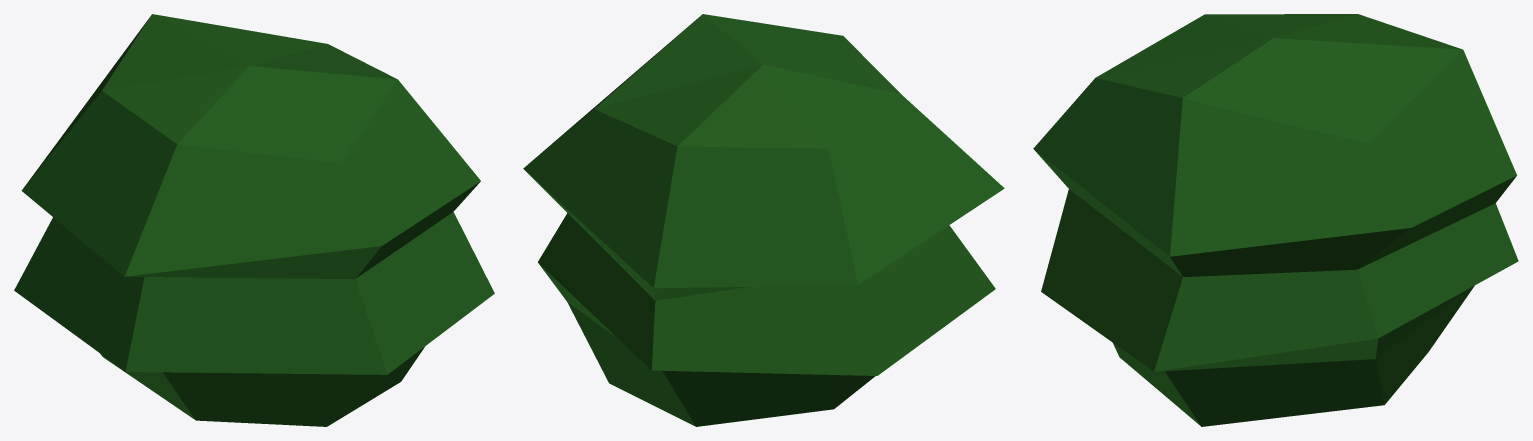
The model's file is bush4.glb.
The picture shows the model from 3 angles, left to right: view 1: azimuth 30°, elevation 25°; view 2: azimuth 150°, elevation 25°; view 3: azimuth 270°, elevation 25°; orthographic projection. The views are drawn at different scales.
Parts seen in each view (by area): view 1: bush1; view 2: bush1; view 3: bush1.
Boxes of the visible parts, box(x1,y1,x2,y2) form: bush1: box(14, 14, 494, 426); bush1: box(523, 14, 1004, 426); bush1: box(1033, 14, 1518, 426).
Bounding box in the file's own units: 1.04 × 0.8565 × 1.14.
